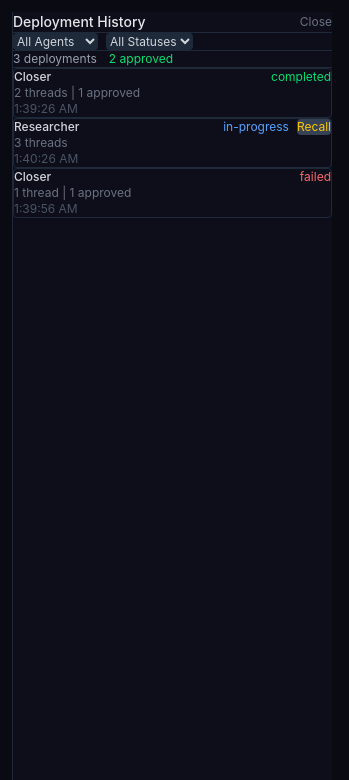
Scenario: Deployment history filters › filters by agent role
Step 1. Select "Researcher" in the dropdown with test id "filter-role" → (56, 42), box [13,33,98,50]
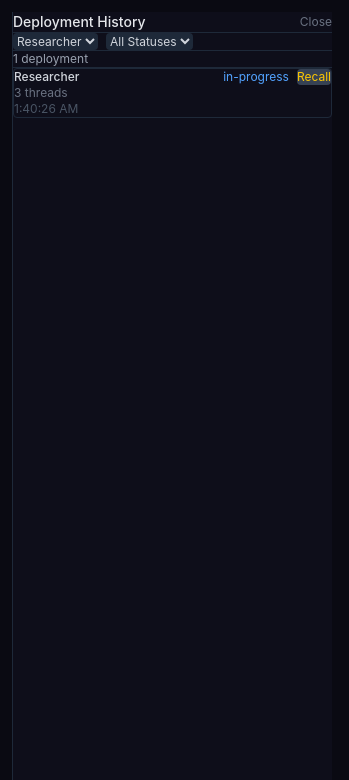
Expected: the element with test id "deployment-d2" is shown, [13,68,332,118]
Now the element with test id "deployment-d1" is gone
Now the element with test id "deployment-d3" is gone
